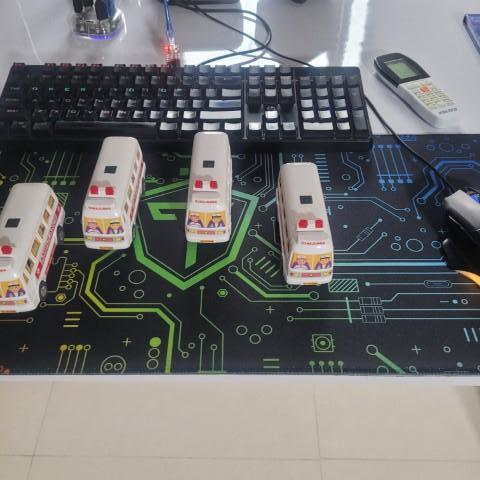ambulance: (273, 158, 341, 289), (84, 131, 147, 254), (183, 129, 236, 243)
